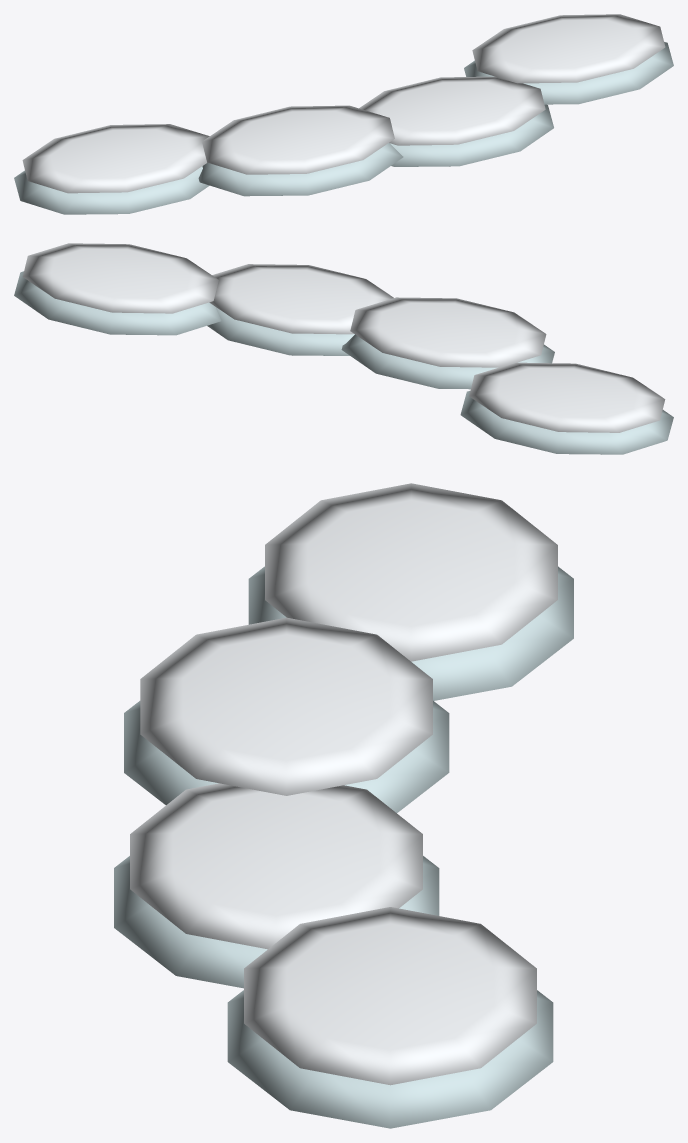
File: ice_floe.glb
The picture shows the model from 3 angles, top to bottom: view 1: azimuth 30°, elevation 25°; view 2: azimuth 150°, elevation 25°; view 3: azimuth 270°, elevation 25°; orthographic projection. The views are drawn at different scales.
Size of the model in its own units: 13 by 0.8752 by 4.03.
